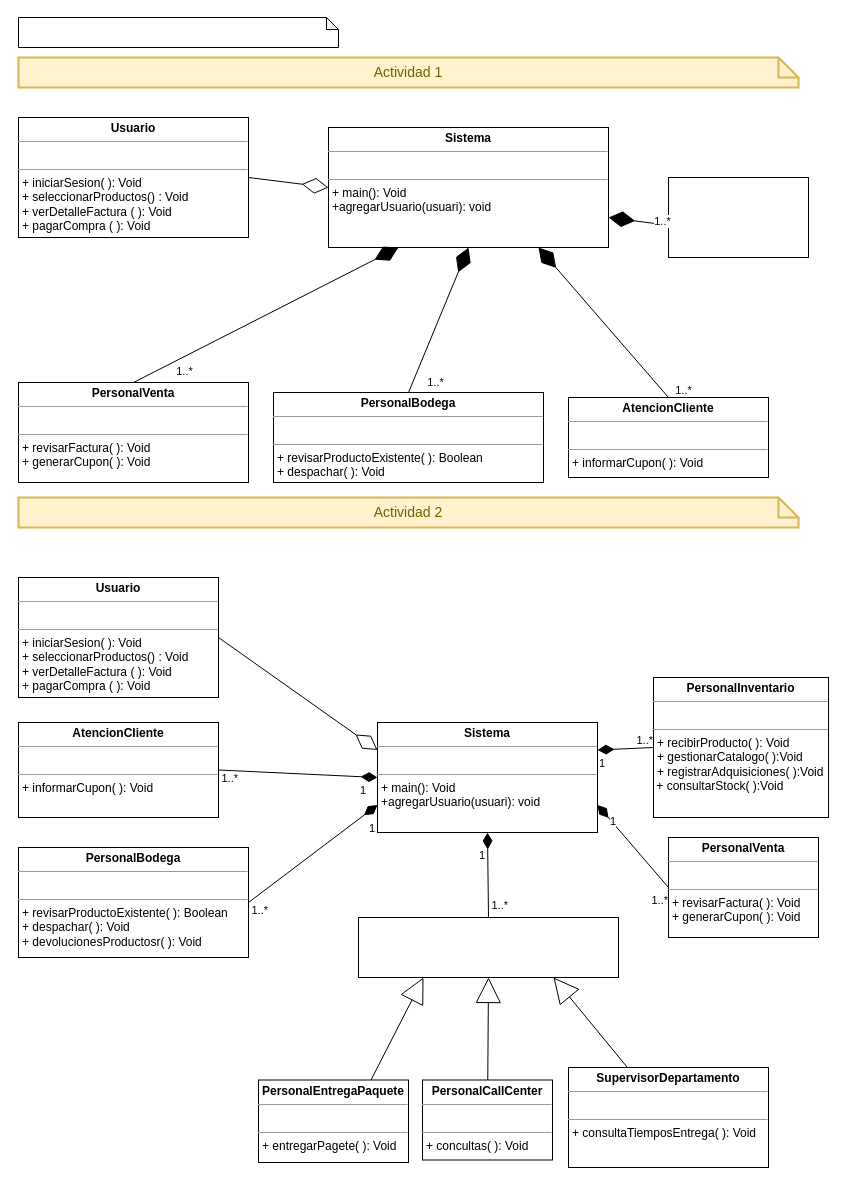
Image size: 846x1185. Some labels were removed from this diagram. Here are the shapes that lost their labels. From the top down, the centre of each, then its label:
the point at 178,32: Karen Brigith Gonzaga Rivas
the point at 738,217: PersonalInventario + recibirProducto( ): Void
the point at 488,947: SeguimientoEntregas
